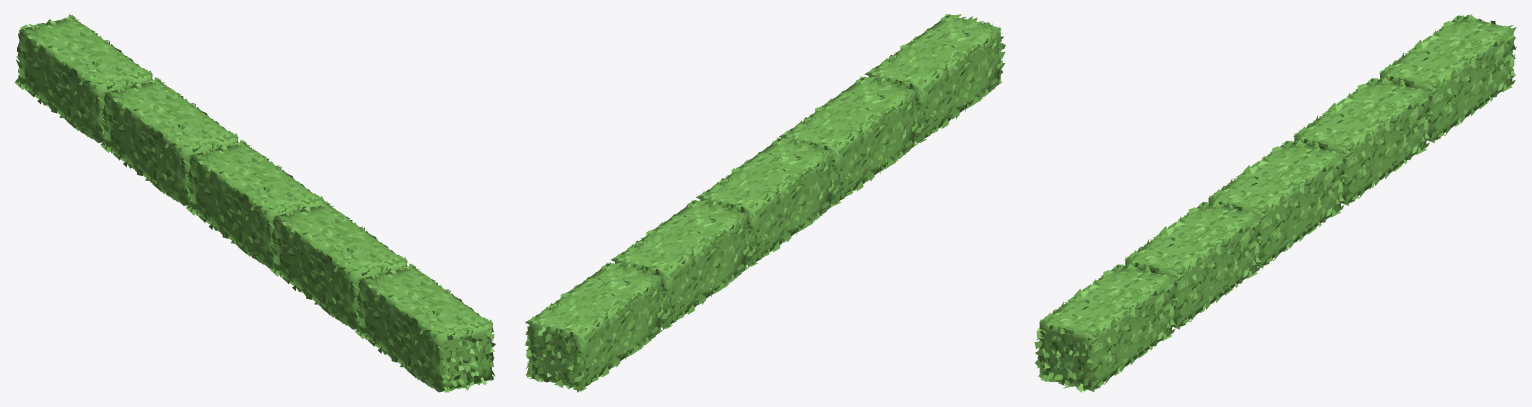
Rendered from BUSH7.fbx.
The picture shows the model from 3 angles, left to right: view 1: azimuth 30°, elevation 25°; view 2: azimuth 150°, elevation 25°; view 3: azimuth 330°, elevation 25°; orthographic projection.
Visible parts, largest first — view 1: Cube.449; view 2: Cube.449; view 3: Cube.449.
Part boxes in pixels (box(x1,y1,x2,y2)): Cube.449: box(14, 14, 495, 392); Cube.449: box(524, 14, 1005, 392); Cube.449: box(1034, 14, 1516, 392).
Bounding box in the file's own units: 1477 × 1469 × 18579.
